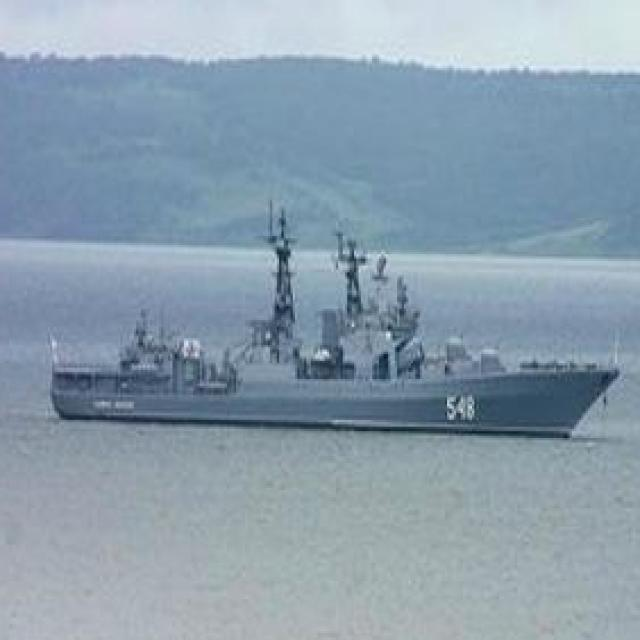navalvessels: (47, 199, 608, 448)
